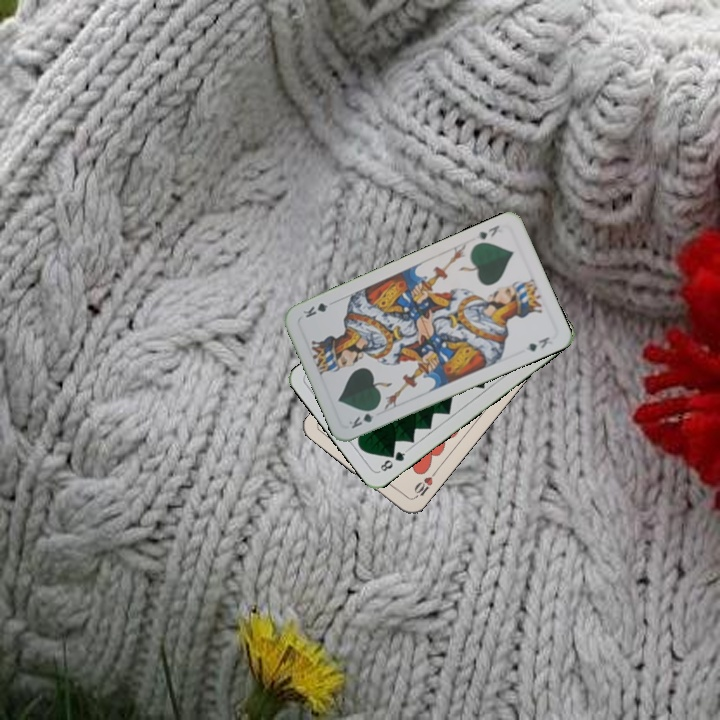G8: (375, 446, 410, 474)
GK: (345, 403, 381, 431), (474, 221, 502, 242)
H10: (409, 467, 439, 502)
